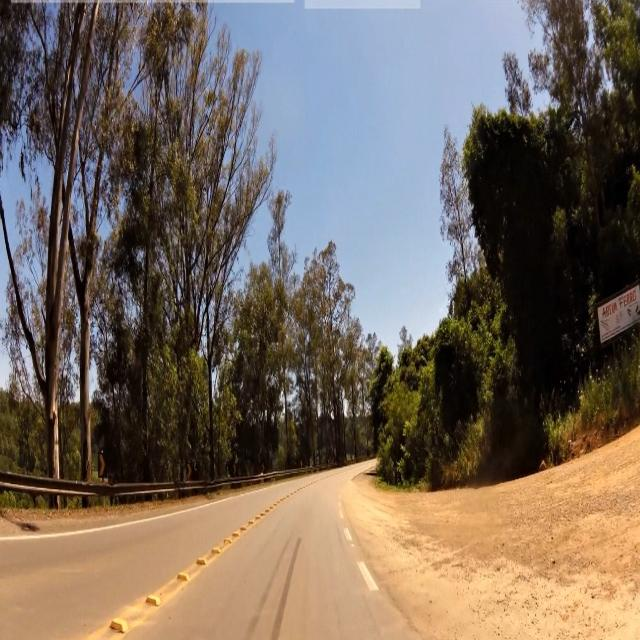Del: (98, 453, 108, 480)
